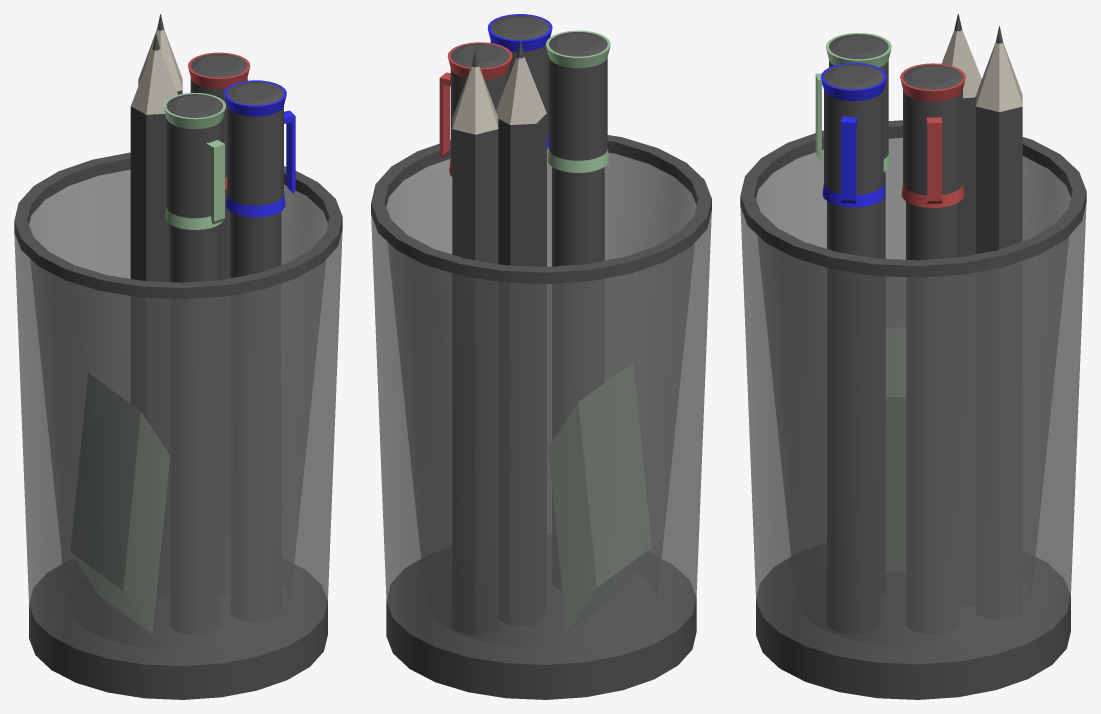
3 renders of one model, left to right at view 1: azimuth 30°, elevation 25°; view 2: azimuth 150°, elevation 25°; view 3: azimuth 270°, elevation 25°, orthographic. The views are drawn at different scales.
Visible parts, largest first — view 1: Group#10_001, Group_001, Group_004, Group#9_001, Group_010, Group_005, Group_002, Group_007, Group_008, Group_012, Group_003, Group_015 (+1 smaller); view 2: Group#10_001, Group_010, Group_013, Group#9_001, Group_001, Group_002, Group_005, Group_008, Group_012, Group_015, Group_009; view 3: Group#10_001, Group_013, Group_007, Group_004, Group_010, Group_008, Group_005, Group#9_001, Group_002, Group_015, Group_001, Group_009 (+3 smaller).
Boxes of the visible parts, <box> form: Group#10_001: <box>14,152,342,699</box>; Group_001: <box>169,224,220,634</box>; Group_004: <box>230,211,281,622</box>; Group#9_001: <box>70,373,169,633</box>; Group_010: <box>130,106,169,596</box>; Group_005: <box>224,80,286,217</box>; Group_002: <box>163,93,225,229</box>; Group_007: <box>220,189,229,594</box>; Group_008: <box>188,52,250,189</box>; Group_012: <box>131,49,177,114</box>; Group_003: <box>206,140,224,224</box>; Group_015: <box>138,29,182,91</box>; Group#10_001: <box>371,135,711,699</box>; Group_010: <box>498,113,546,625</box>; Group_013: <box>452,129,498,635</box>; Group#9_001: <box>548,363,651,632</box>; Group_001: <box>552,167,604,590</box>; Group_002: <box>546,30,610,172</box>; Group_005: <box>487,14,552,149</box>; Group_008: <box>447,42,512,176</box>; Group_012: <box>496,57,546,124</box>; Group_015: <box>452,65,498,134</box>; Group_009: <box>439,72,450,158</box>; Group#10_001: <box>740,120,1086,699</box>; Group_013: <box>976,106,1022,620</box>; Group_007: <box>906,201,959,634</box>; Group_004: <box>827,201,880,633</box>; Group_010: <box>960,96,975,606</box>; Group_008: <box>900,63,965,207</box>; Group_005: <box>821,63,886,207</box>; Group#9_001: <box>886,328,905,570</box>; Group_002: <box>826,33,891,171</box>; Group_015: <box>976,42,1022,112</box>; Group_001: <box>880,171,885,598</box>; Group_009: <box>926,117,942,203</box>.
Size of the model in its own units: 3.15 by 6.22 by 3.15.
